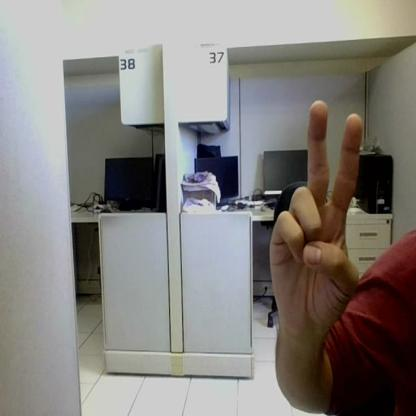V: (270, 100, 361, 317)
